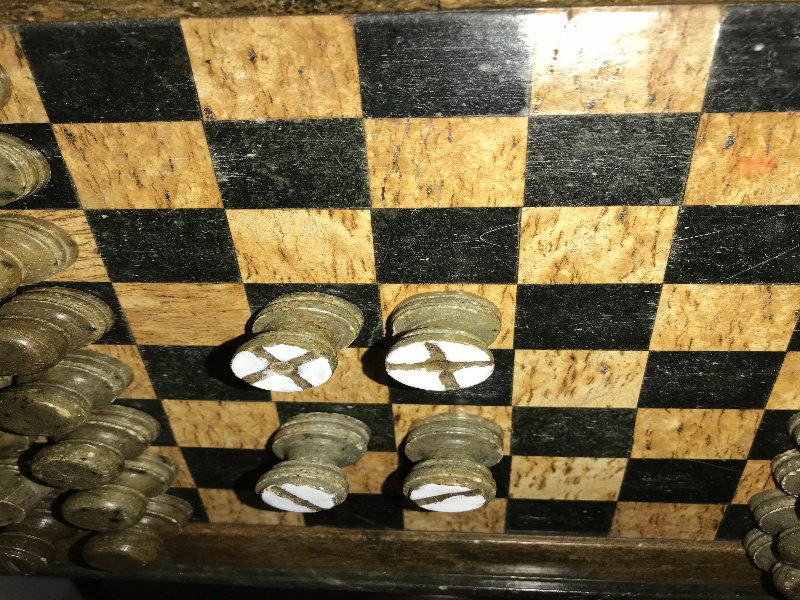WhiteBishop: (230, 293, 364, 392), (385, 291, 503, 392)
WhiteRook: (256, 412, 371, 513), (402, 413, 504, 512)
